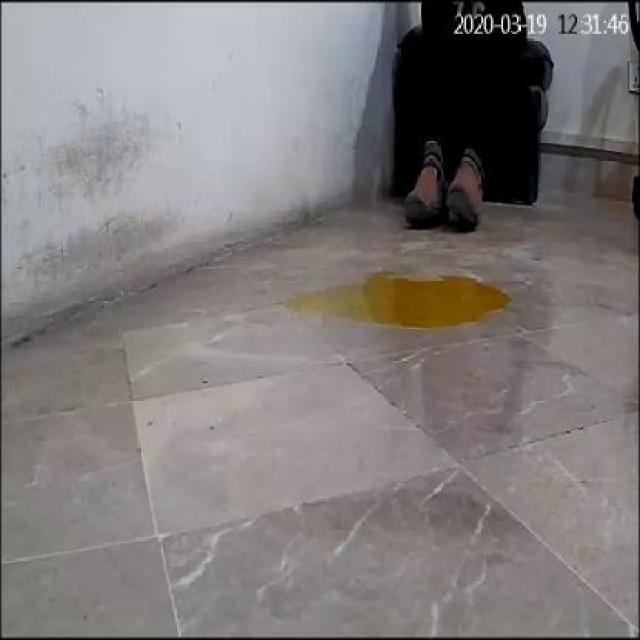spill: (292, 277, 510, 328)
